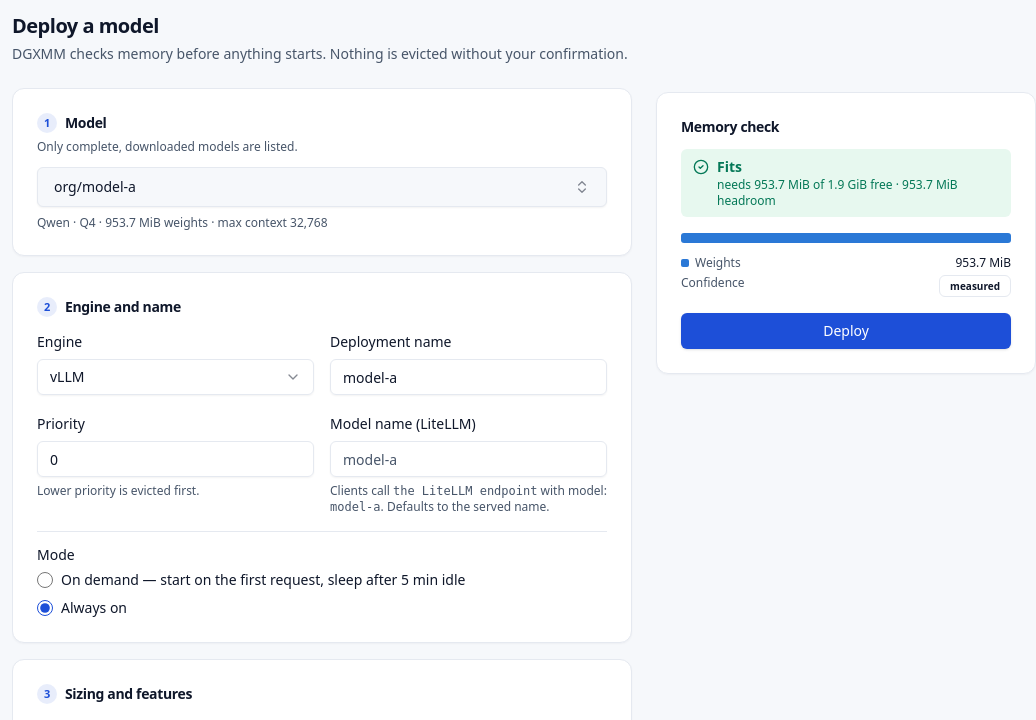
Test: DeployWizard › explains a model name LiteLLM already has from an entry DGXMM did not create
Check: the text "Fits" is shown, box left=717, top=157, right=742, bottom=176
Click the button "Deploy" at (846, 331), box left=681, top=313, right=1011, bottom=349
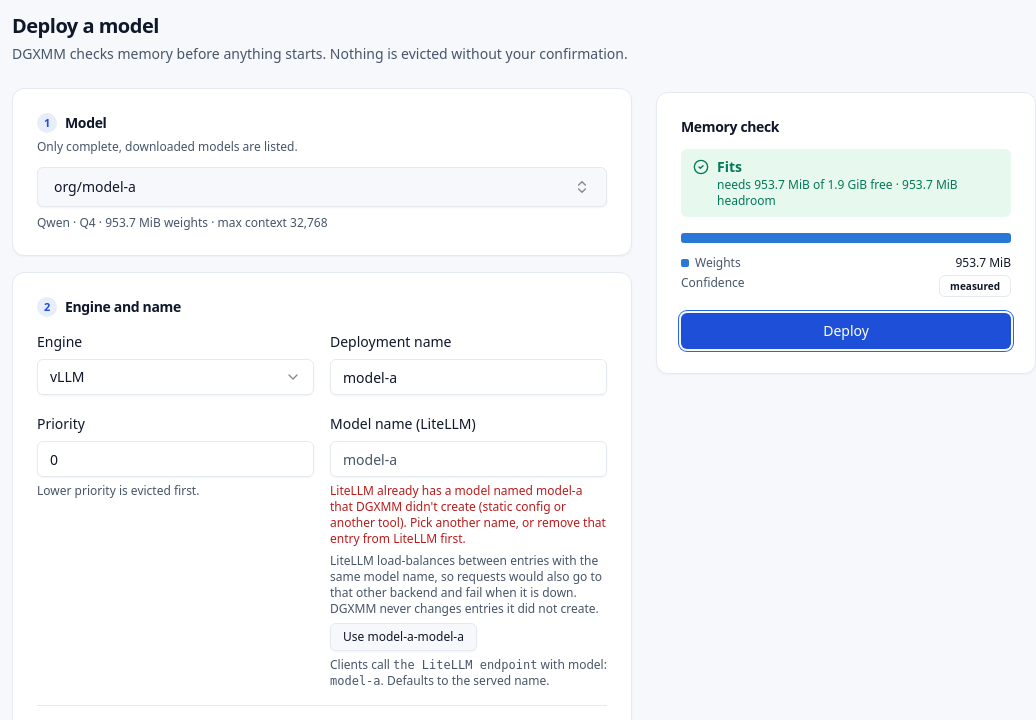
Check: the text "LiteLLM already has a model named model-a that DGXMM didn't create" is shown, box left=330, top=482, right=606, bottom=547
Click the button "Use model-a-model-a" at (403, 637), box left=330, top=623, right=477, bottom=651
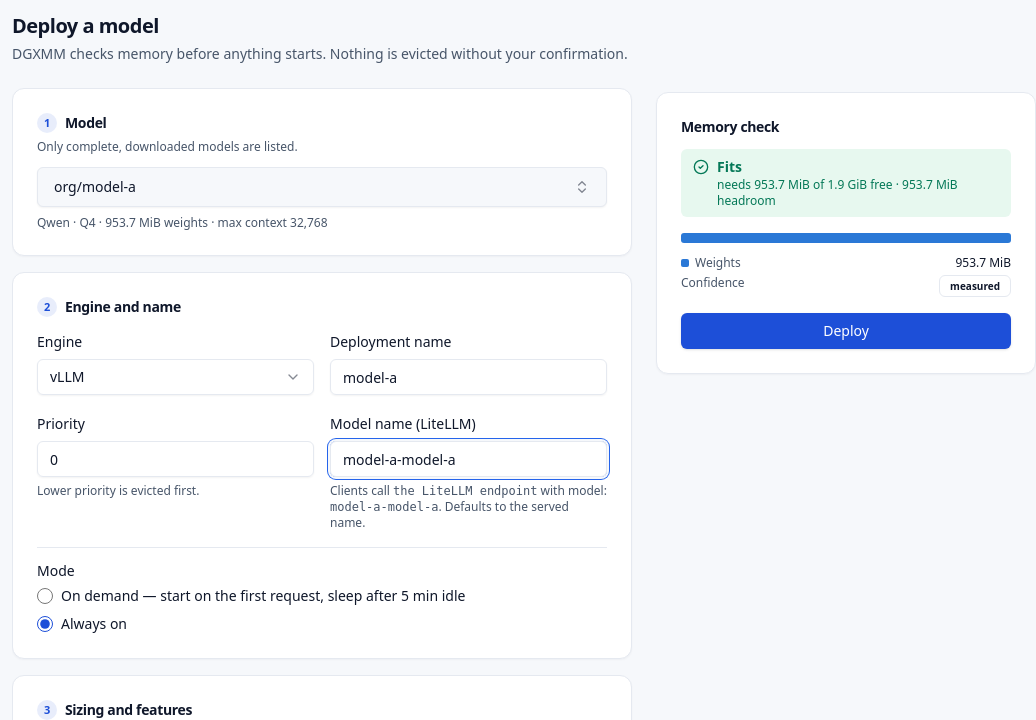
Check: the field labelled "Model name (LiteLLM)" holds "model-a-model-a", box left=330, top=441, right=607, bottom=477
